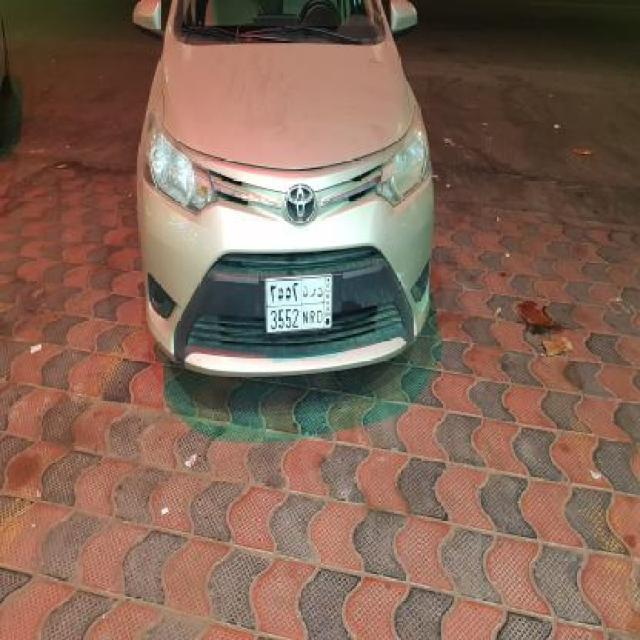license_plate: (264, 272, 334, 336)
